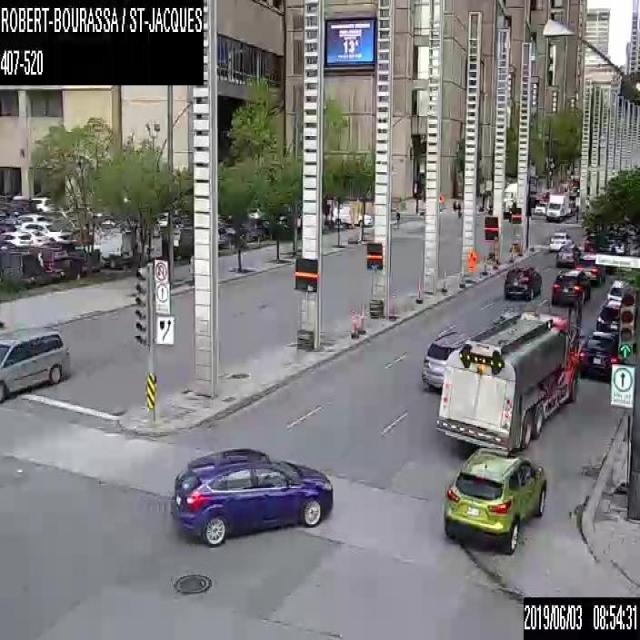construction: (348, 309, 365, 340), (464, 249, 476, 287), (414, 276, 422, 303), (388, 294, 396, 318), (480, 254, 487, 274), (441, 268, 447, 291), (493, 241, 498, 267), (508, 246, 514, 262)
vehicle: (435, 310, 577, 454), (168, 445, 333, 548), (442, 446, 548, 553), (0, 326, 67, 402), (420, 320, 473, 388), (578, 328, 626, 381), (550, 268, 590, 304), (21, 219, 73, 245), (503, 264, 541, 299), (98, 228, 132, 267), (576, 252, 606, 284), (331, 204, 372, 226), (595, 300, 623, 328), (545, 193, 570, 221), (607, 278, 632, 304), (17, 226, 49, 244), (502, 180, 517, 216), (556, 243, 581, 264), (548, 231, 574, 250), (0, 230, 29, 247), (30, 196, 51, 211), (16, 212, 42, 224), (533, 200, 547, 213)
